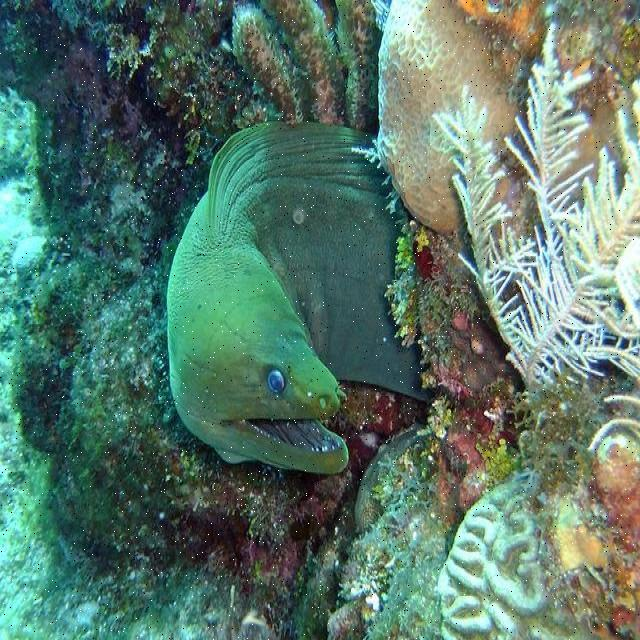fish: (167, 120, 427, 474)
reefs: (431, 22, 639, 398), (378, 2, 518, 236), (438, 472, 602, 639)
